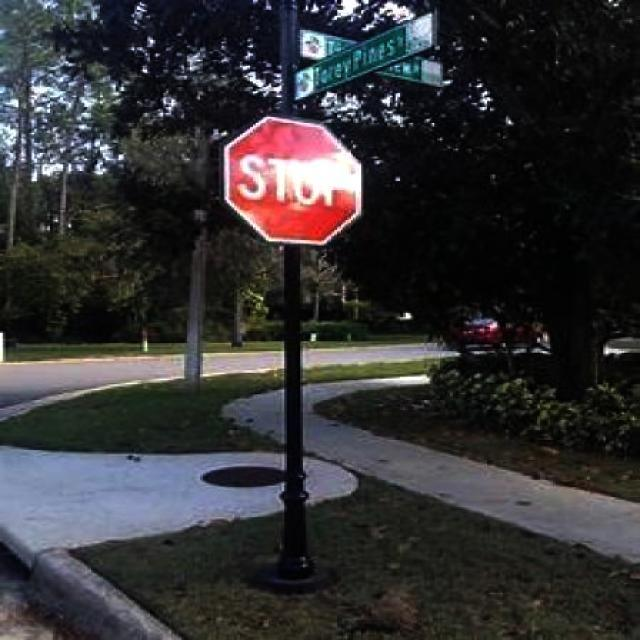Stop-Sign: (225, 116, 361, 245)
